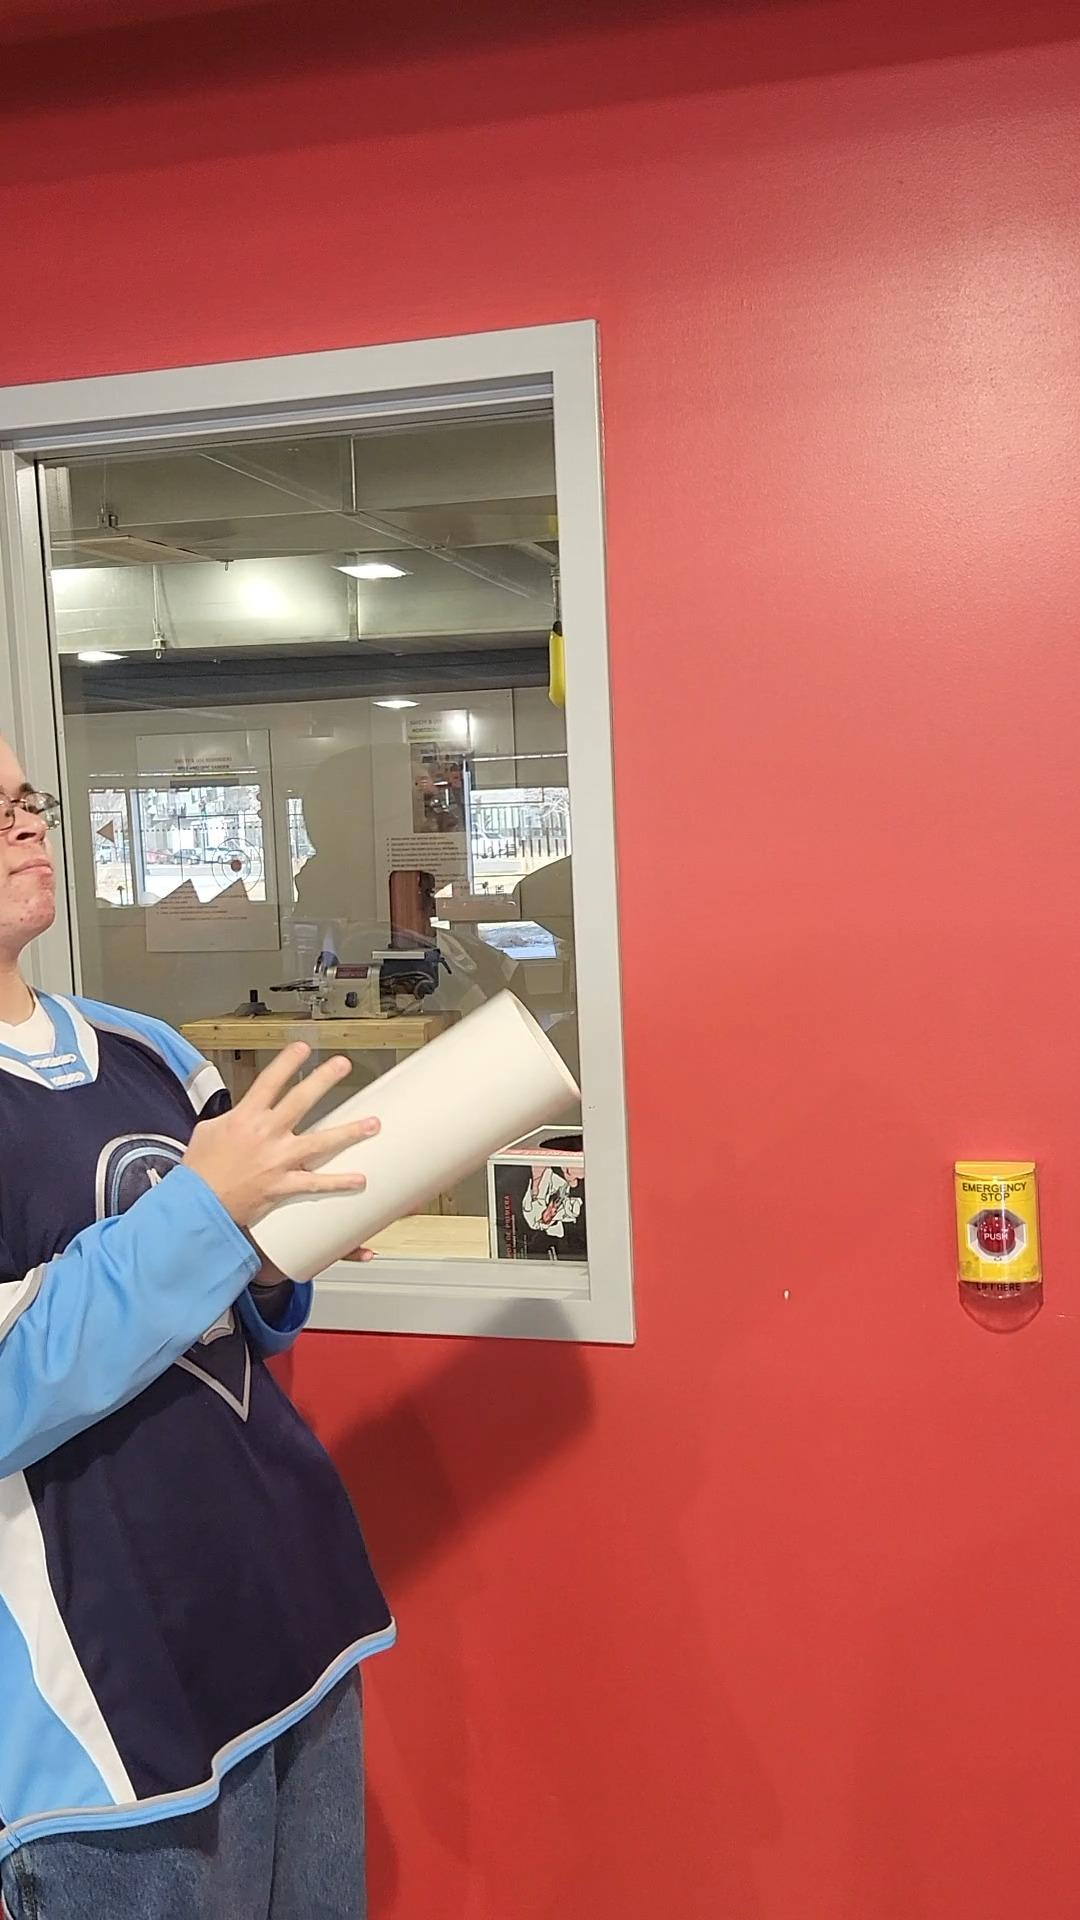coral: (233, 990, 604, 1290)
